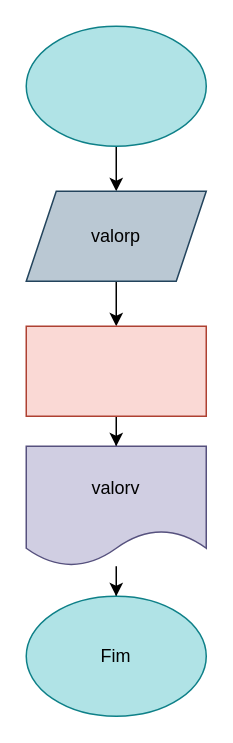
The diagram is 233 pixels wide and 743 high, and some of its shapes have lost their labels. The centre of each missing label's shape, as x and y in pixels:
"Inicio" belongs at (x=115, y=85).
"valorv= valop+65/100*valorp" belongs at (x=115, y=370).
